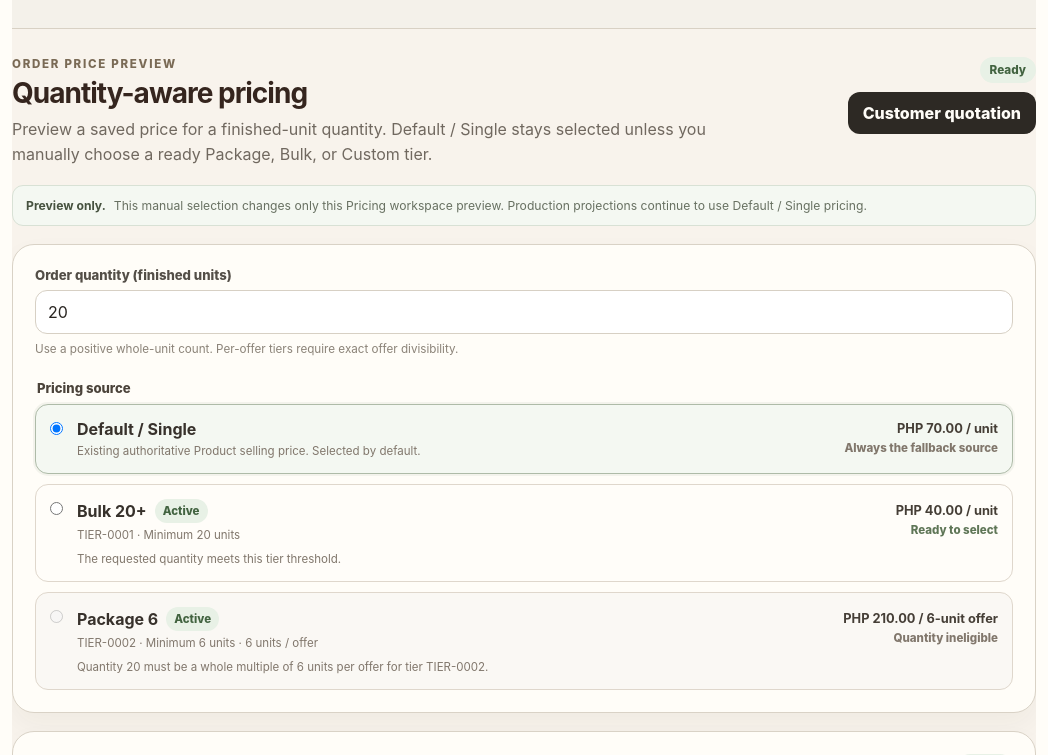
Scenario: TP8D ProductPriceResolutionPanel › enables customer quotation only for ready saved pricing
This screenshot has width=1048, height=755.
Step 1. Click the button "Customer quotation" → (942, 113), box [848,92,1036,134]
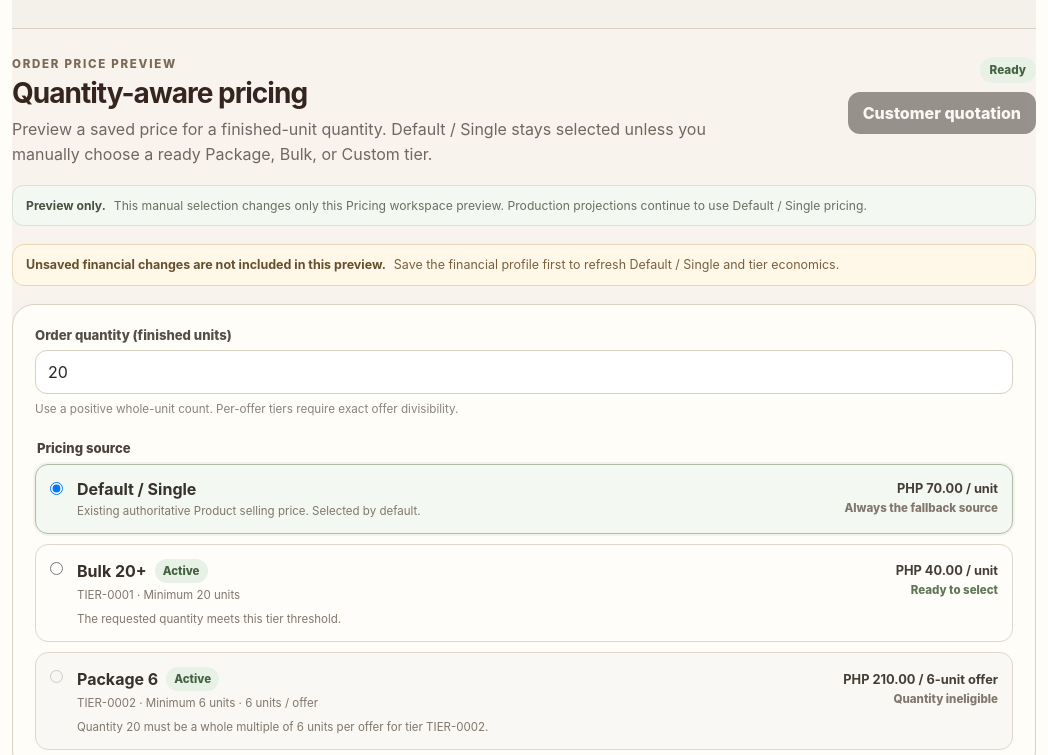
Now the button "Customer quotation" is disabled, box [848,92,1036,134]
